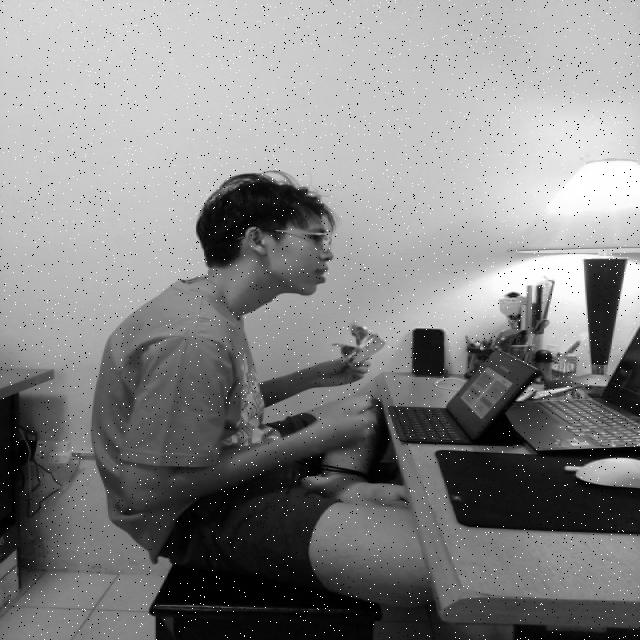Bad: (94, 170, 435, 588)
